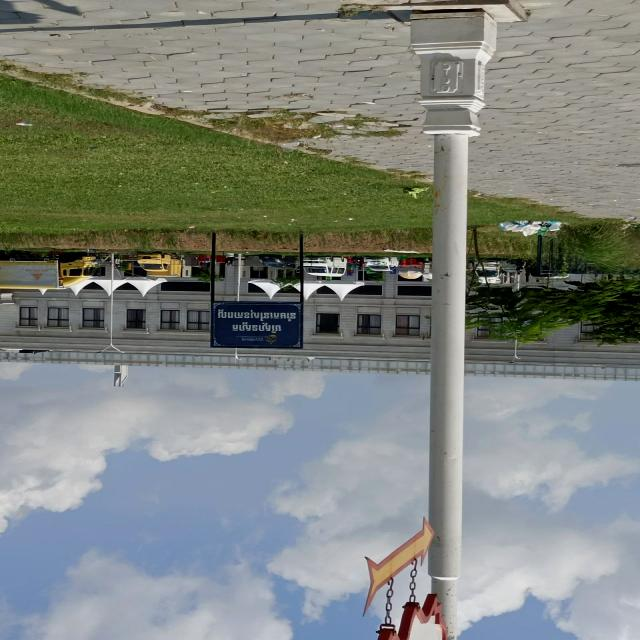Yolov11_80vkh: (215, 310, 298, 322), (228, 320, 284, 335)
